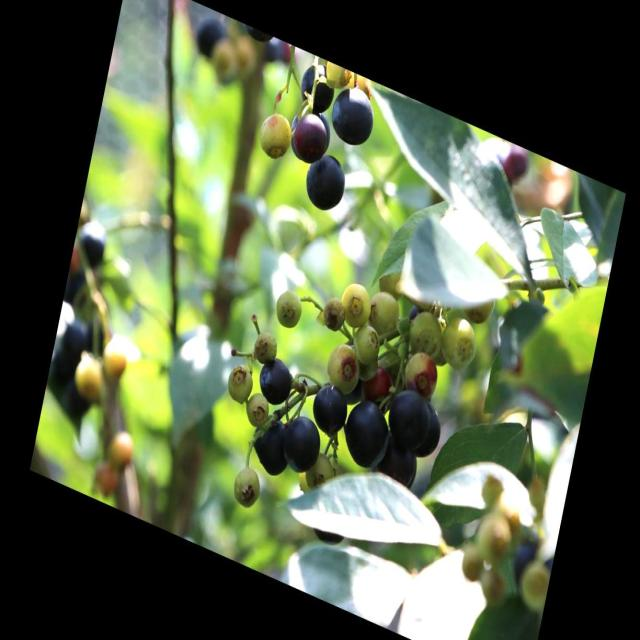blueberry: (338, 389, 390, 475), (299, 145, 350, 219), (384, 378, 434, 453), (244, 408, 294, 478), (327, 81, 377, 151), (278, 408, 325, 481), (284, 101, 330, 165), (371, 433, 420, 493), (308, 377, 350, 438), (296, 60, 338, 119), (256, 352, 296, 407), (415, 398, 445, 463)
blueberry-halfripe: (400, 342, 446, 402), (360, 361, 394, 407)
blueberry-unripe: (438, 309, 482, 376), (322, 333, 366, 393), (405, 301, 446, 362), (335, 274, 375, 332), (227, 457, 266, 516), (255, 106, 293, 162), (366, 283, 403, 340), (458, 281, 497, 330), (301, 444, 336, 498), (271, 281, 306, 334), (347, 318, 381, 369), (222, 358, 254, 408), (250, 322, 282, 368), (240, 388, 272, 432)
